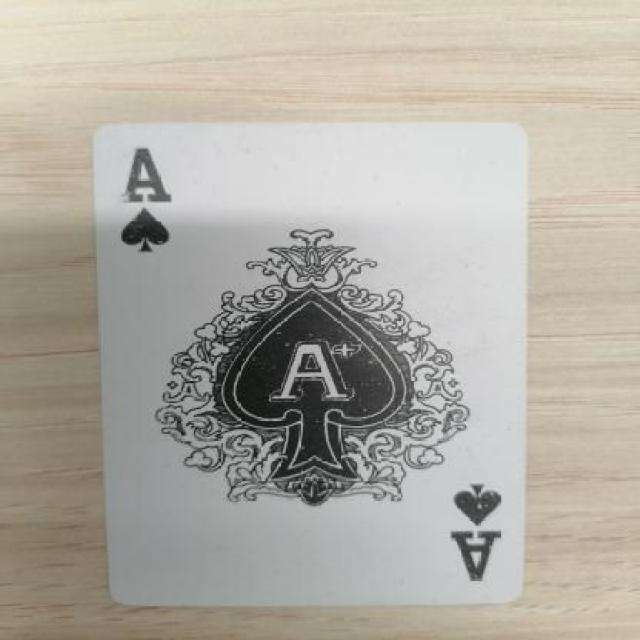AS: (427, 461, 525, 602), (100, 131, 185, 278)
